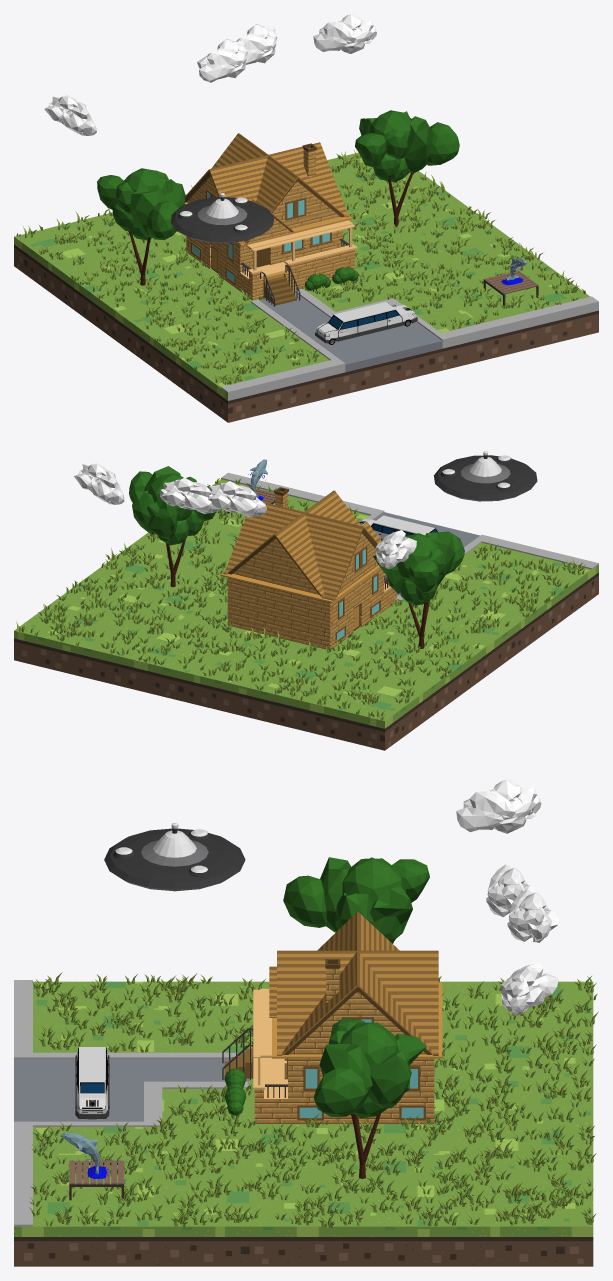
3 renders of one model, top to bottom at view 1: azimuth 30°, elevation 25°; view 2: azimuth 150°, elevation 25°; view 3: azimuth 270°, elevation 25°, orthographic. The views are drawn at different scales.
Parts seen in each view (by area): view 1: Cube.006, Circle.012_Grass_0.192, Cube.508, Cube.007, tree, tree.001, OBJRANDOM_UFO, VEHICLES_LIMOUSINE, Cube.009; view 2: Cube.006, Cube.508, Circle.012_Grass_0.192, Cube.007, tree.001, tree, OBJRANDOM_UFO, VEHICLES_LIMOUSINE; view 3: Cube.006, Circle.012_Grass_0.192, Cube.508, tree, Cube.007, tree.001, OBJRANDOM_UFO, VEHICLES_LIMOUSINE, Cube.009, ANIMAL_DELFIN.
Boxes of the visible parts, x1,y1,x2,y2 form: Cube.006: (14, 152, 598, 422); Circle.012_Grass_0.192: (16, 150, 585, 384); Cube.508: (184, 133, 357, 306); Cube.007: (44, 14, 376, 135); tree: (355, 110, 459, 227); tree.001: (97, 168, 185, 285); OBJRANDOM_UFO: (170, 193, 274, 243); VEHICLES_LIMOUSINE: (315, 302, 417, 344); Cube.009: (483, 270, 538, 305); Cube.006: (14, 472, 598, 750); Cube.508: (220, 487, 396, 649); Circle.012_Grass_0.192: (16, 478, 585, 720); Cube.007: (74, 463, 416, 569); tree.001: (373, 531, 464, 648); tree: (129, 466, 215, 587); OBJRANDOM_UFO: (433, 451, 537, 501); VEHICLES_LIMOUSINE: (359, 515, 437, 540); Cube.006: (14, 980, 593, 1266); Circle.012_Grass_0.192: (29, 972, 598, 1227); Cube.508: (222, 912, 442, 1123); tree: (313, 1018, 426, 1178); Cube.007: (456, 779, 558, 1015); tree.001: (283, 857, 429, 943); OBJRANDOM_UFO: (104, 823, 245, 891); VEHICLES_LIMOUSINE: (75, 1047, 109, 1119); Cube.009: (69, 1160, 123, 1200); ANIMAL_DELFIN: (60, 1132, 108, 1178).
Bounding box in the file's own units: 4071 × 2176 × 4040.
39 materials, 4 textured.
